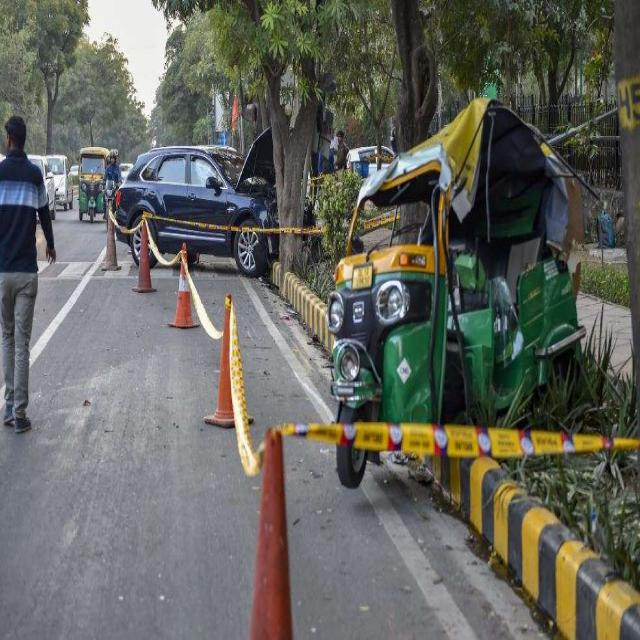accident: (328, 98, 584, 424), (115, 130, 279, 275)
autorickshaw: (79, 147, 109, 221)
car: (48, 155, 74, 211)
